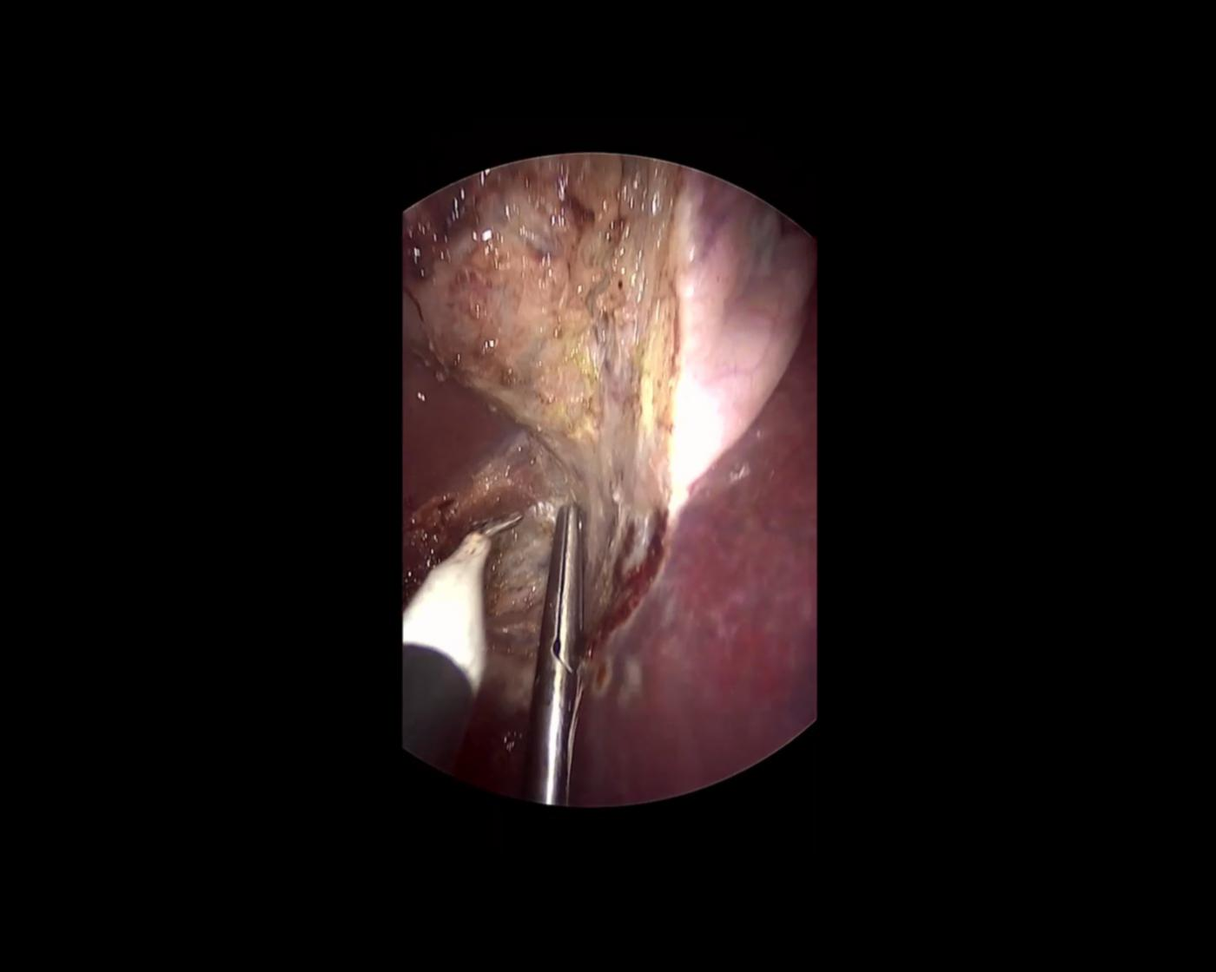Forceps: (525, 505, 603, 804)
Gallbladder: (341, 82, 840, 519), (365, 487, 527, 776)
Liver: (569, 244, 814, 807), (404, 366, 522, 511)
